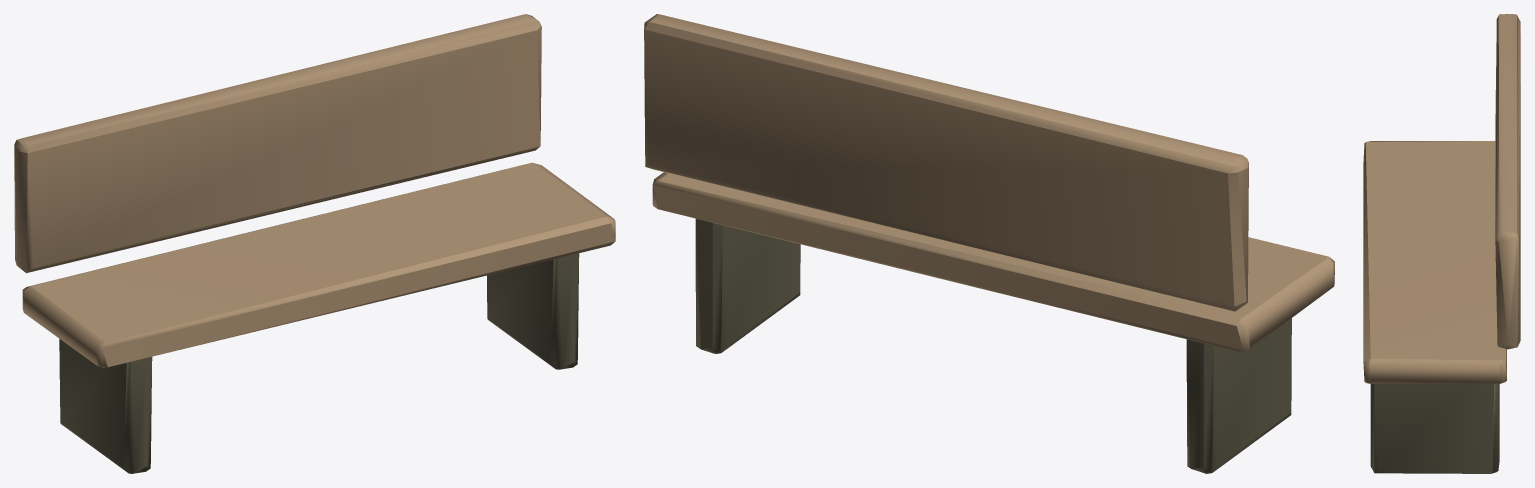
The model's file is SM_Warmerdamm_Bench_LOD1.fbx.
3 views of the same model, side by side, from view 1: azimuth 30°, elevation 25°; view 2: azimuth 150°, elevation 25°; view 3: azimuth 270°, elevation 25° (orthographic). The views are drawn at different scales.
Visible parts, largest first — view 1: SM_Warmerdamm_Bench_LOD1; view 2: SM_Warmerdamm_Bench_LOD1; view 3: SM_Warmerdamm_Bench_LOD1.
Boxes of the visible parts, x1,y1,x2,y2 form: SM_Warmerdamm_Bench_LOD1: (14,14,615,473); SM_Warmerdamm_Bench_LOD1: (644,14,1334,473); SM_Warmerdamm_Bench_LOD1: (1363,14,1520,473).
Bounding box in the file's own units: 1.91 × 1.01 × 0.5611.
